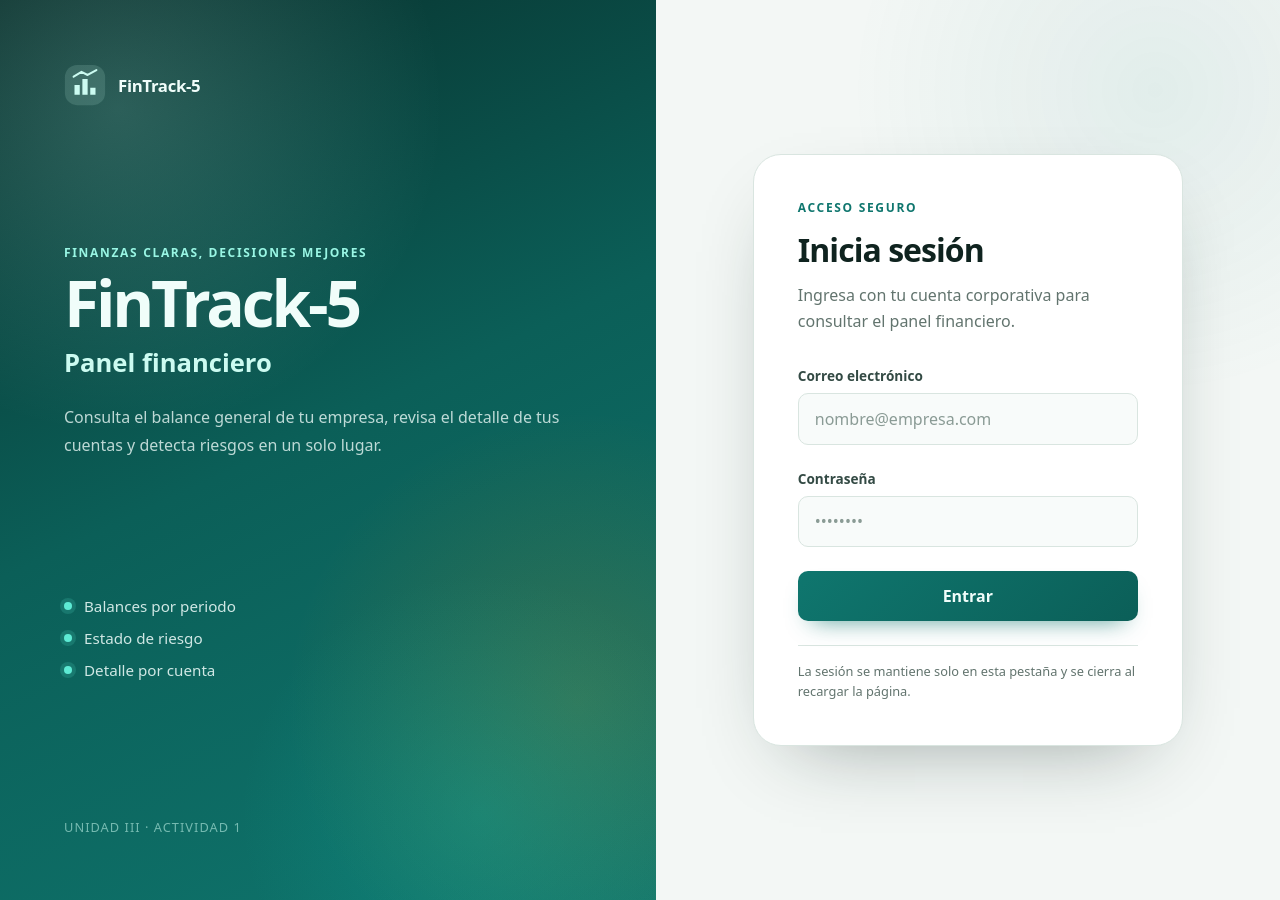
Test case: login › inicia sesión con credenciales válidas y guarda el token en memoria
In the field labelled "Correo electrónico": (968, 419) [798,393,1138,444], type "admin_a@test.local"
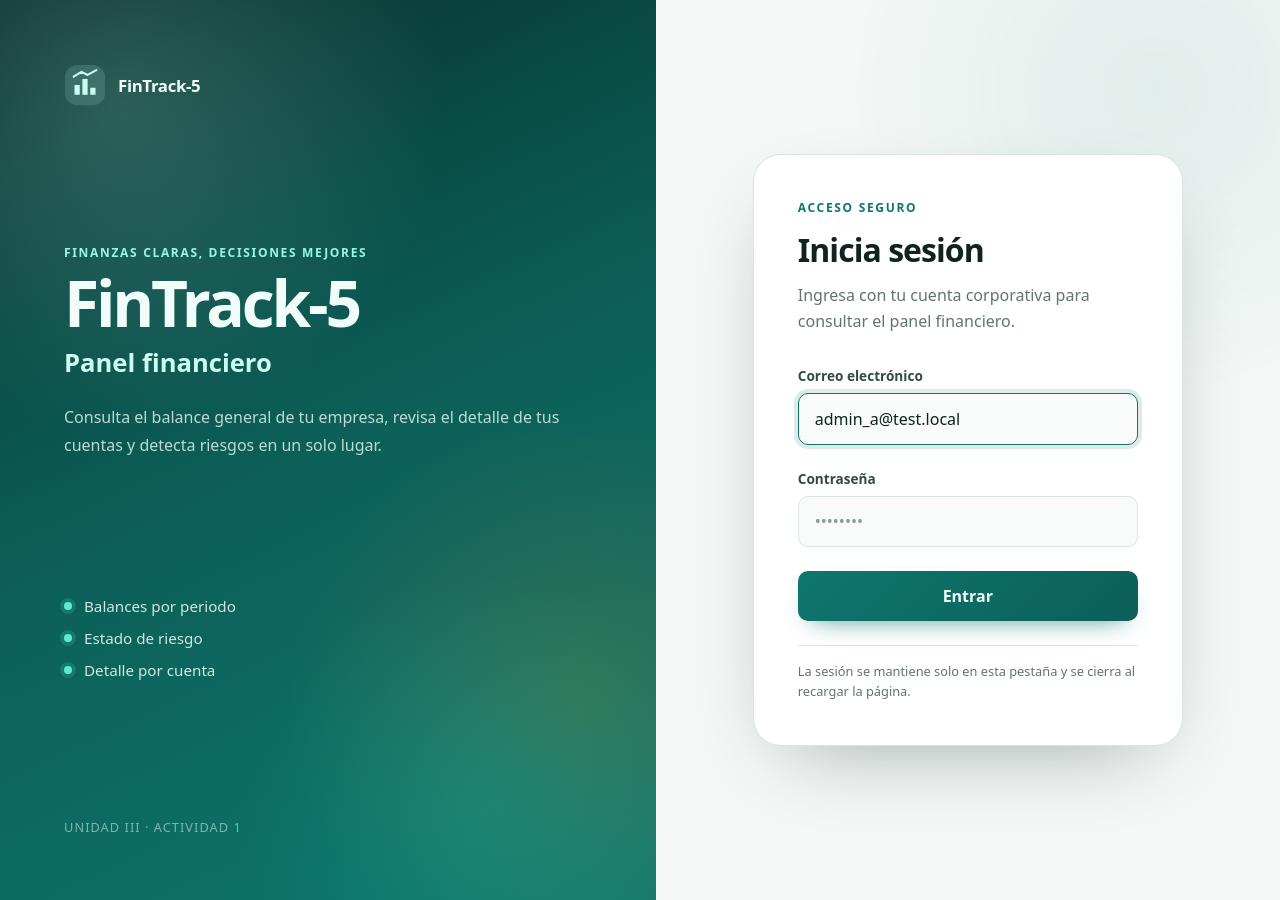
In the password field labelled "Contraseña": (968, 521) [798,496,1138,547], type "clave-correcta"
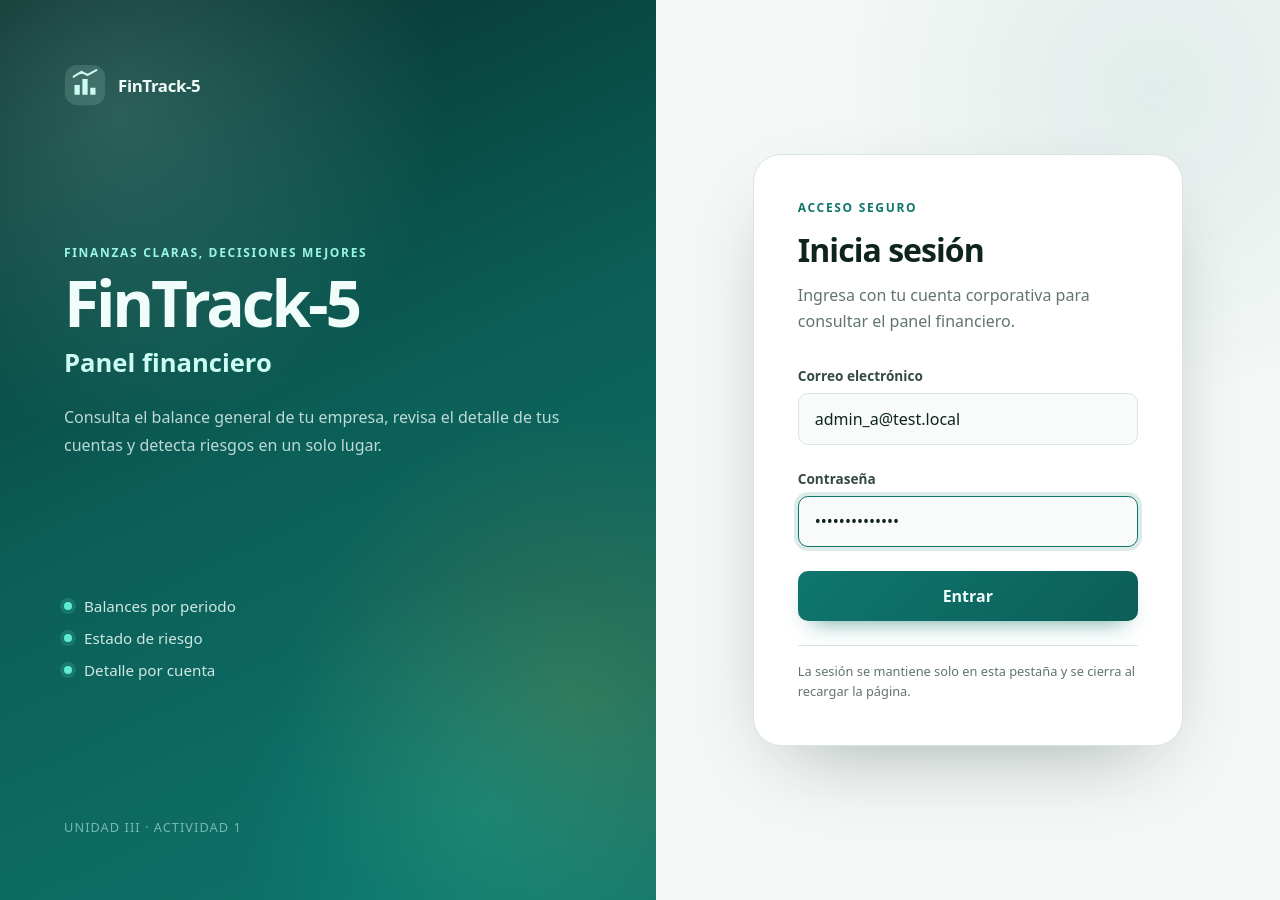
Click the button "Entrar": (968, 596) [798,571,1138,622]
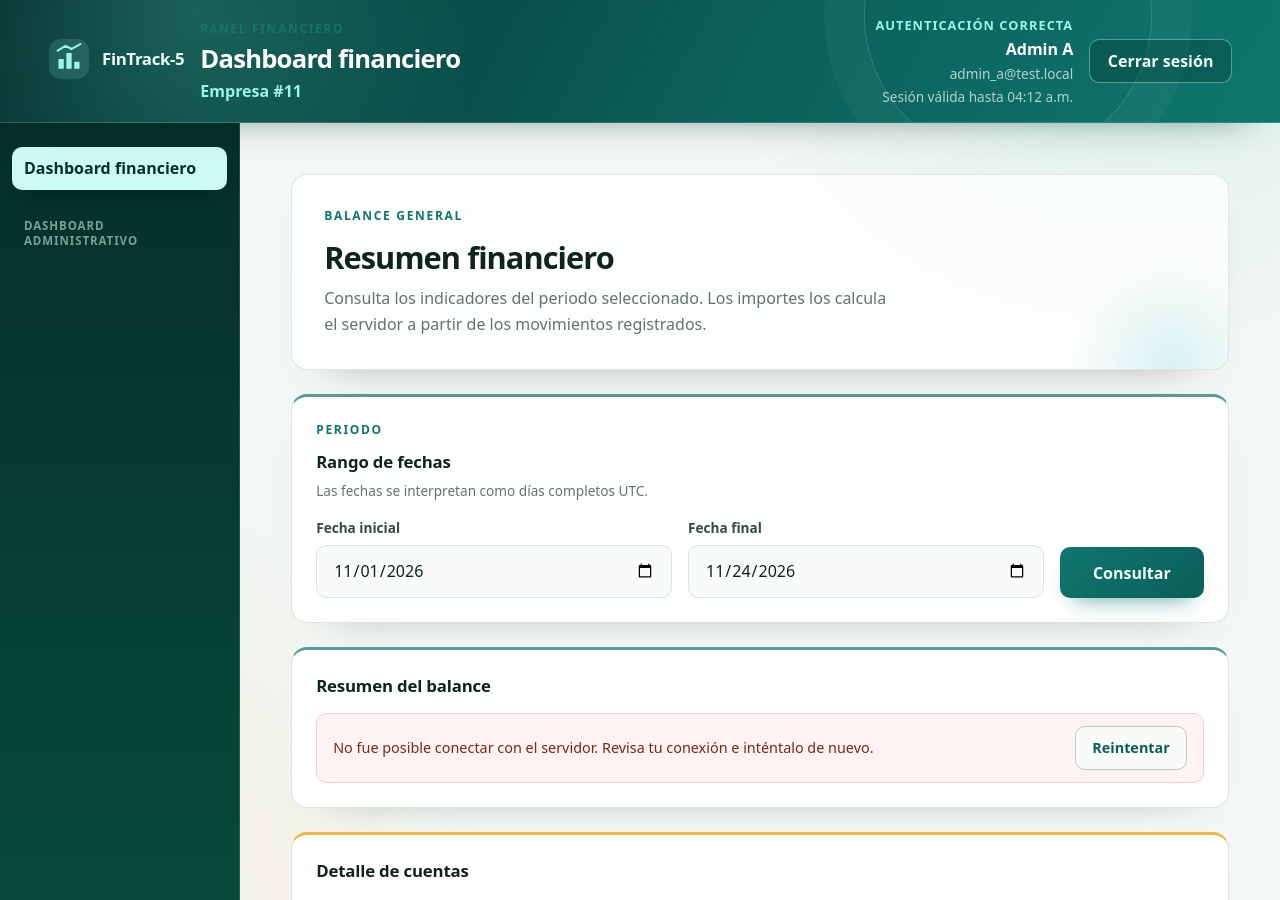
Result: the text "Autenticación correcta" is shown at [875,16,1073,34]
Result: the text "admin_a@test.local" is shown at [950,64,1073,83]
